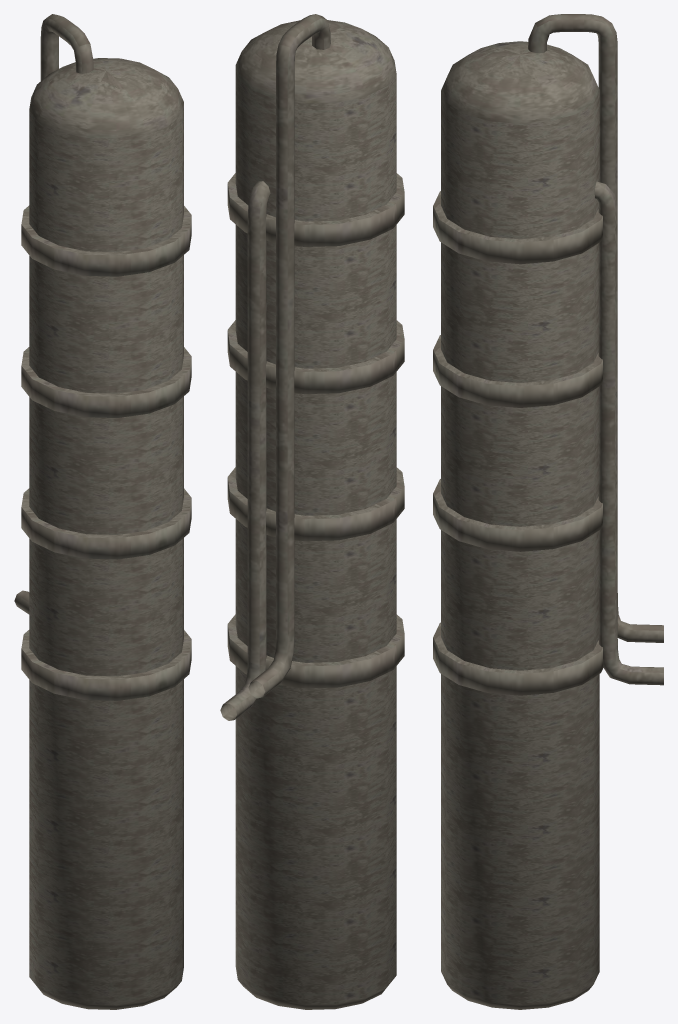
The model's file is refinery_column01.glb.
3 views of the same model, side by side, from view 1: azimuth 30°, elevation 25°; view 2: azimuth 150°, elevation 25°; view 3: azimuth 270°, elevation 25° (orthographic). The views are drawn at different scales.
Parts seen in each view (by area): view 1: Prop.refinery_column01; view 2: Prop.refinery_column01; view 3: Prop.refinery_column01.
Part boxes in pixels (left/top/right/bottom): Prop.refinery_column01: left=14, top=14, right=191, bottom=1009; Prop.refinery_column01: left=220, top=14, right=404, bottom=1009; Prop.refinery_column01: left=433, top=14, right=663, bottom=1009.
Bounding box in the file's own units: 2.2 × 13.39 × 2.91.
Materials: 1 (1 with a texture image).
